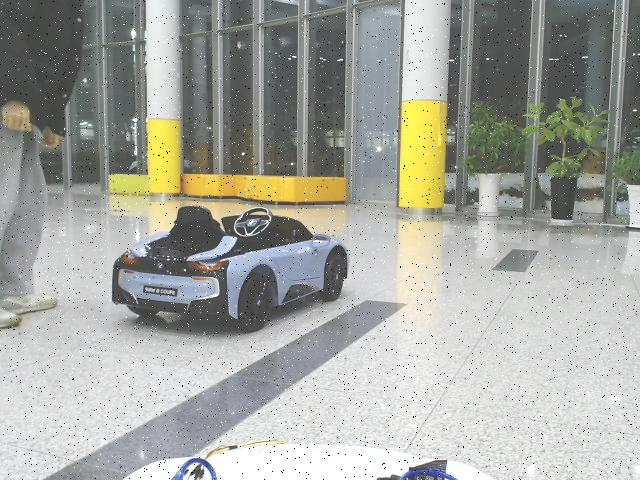car: (112, 206, 348, 333)
